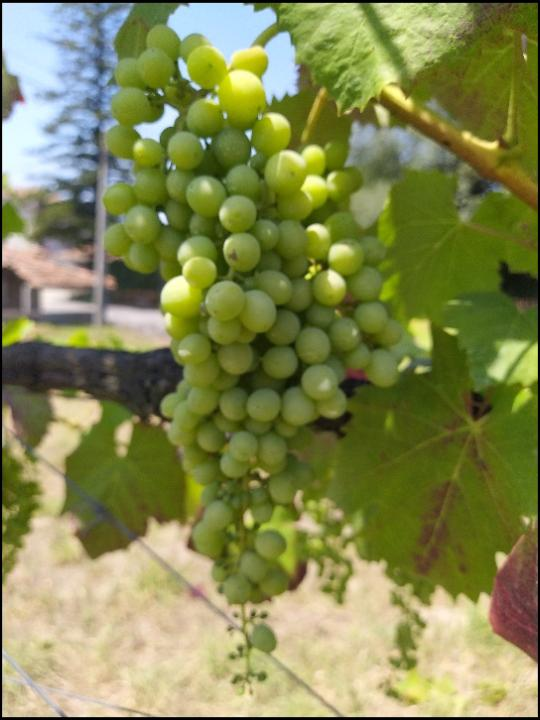grape: (97, 16, 401, 702)
